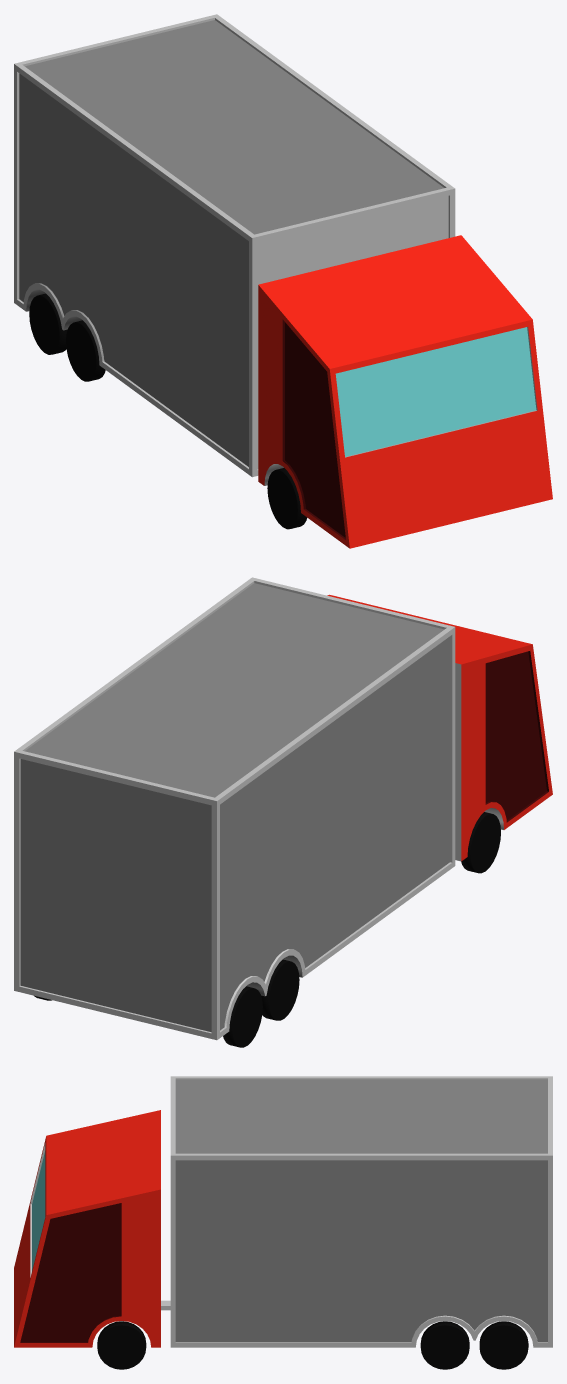
File: lorry.obj
The picture shows the model from 3 angles, top to bottom: view 1: azimuth 30°, elevation 25°; view 2: azimuth 150°, elevation 25°; view 3: azimuth 270°, elevation 25°; orthographic projection. The views are drawn at different scales.
Parts seen in each view (by area): view 1: Sketchup; view 2: Sketchup; view 3: Sketchup.
Part boxes in pixels (bbox=[...]): Sketchup: bbox=[14, 14, 552, 548]; Sketchup: bbox=[14, 577, 552, 1047]; Sketchup: bbox=[14, 1076, 552, 1369].
Bounding box in the file's own units: 0.864 × 1.08 × 2.47.
